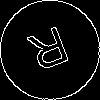R: (25, 25, 76, 81)
